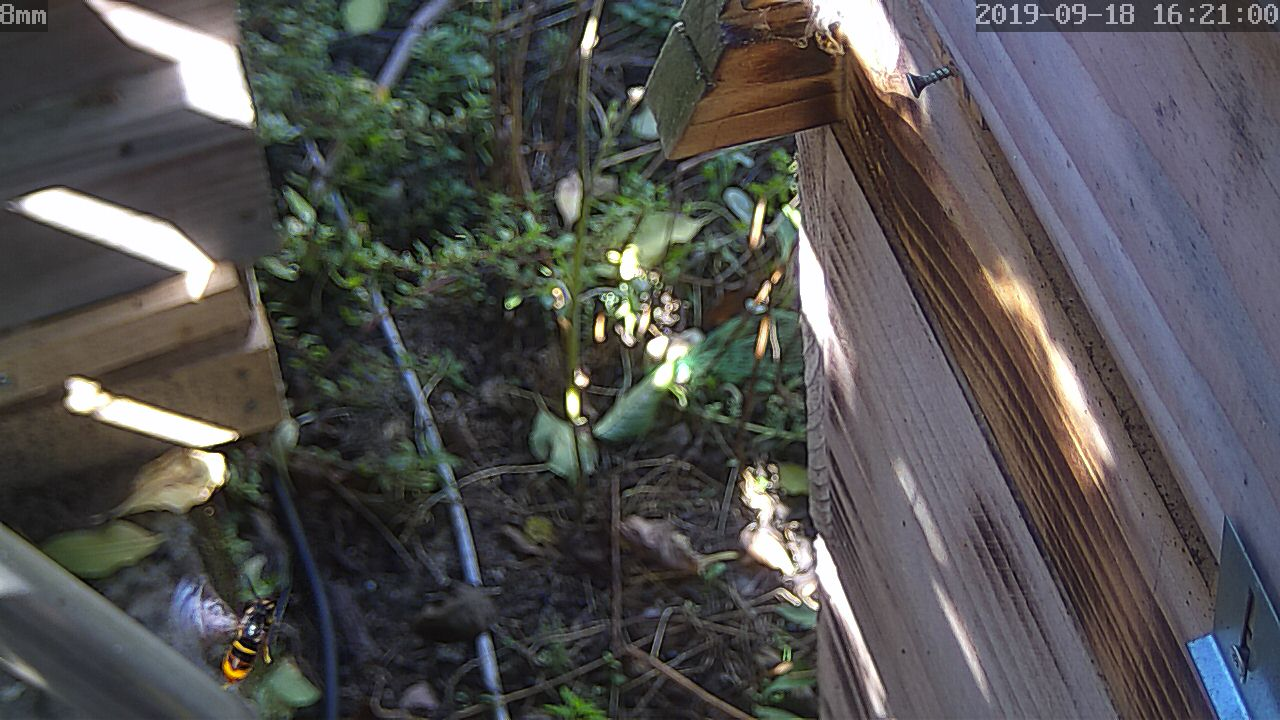hornet: (212, 582, 291, 699)
